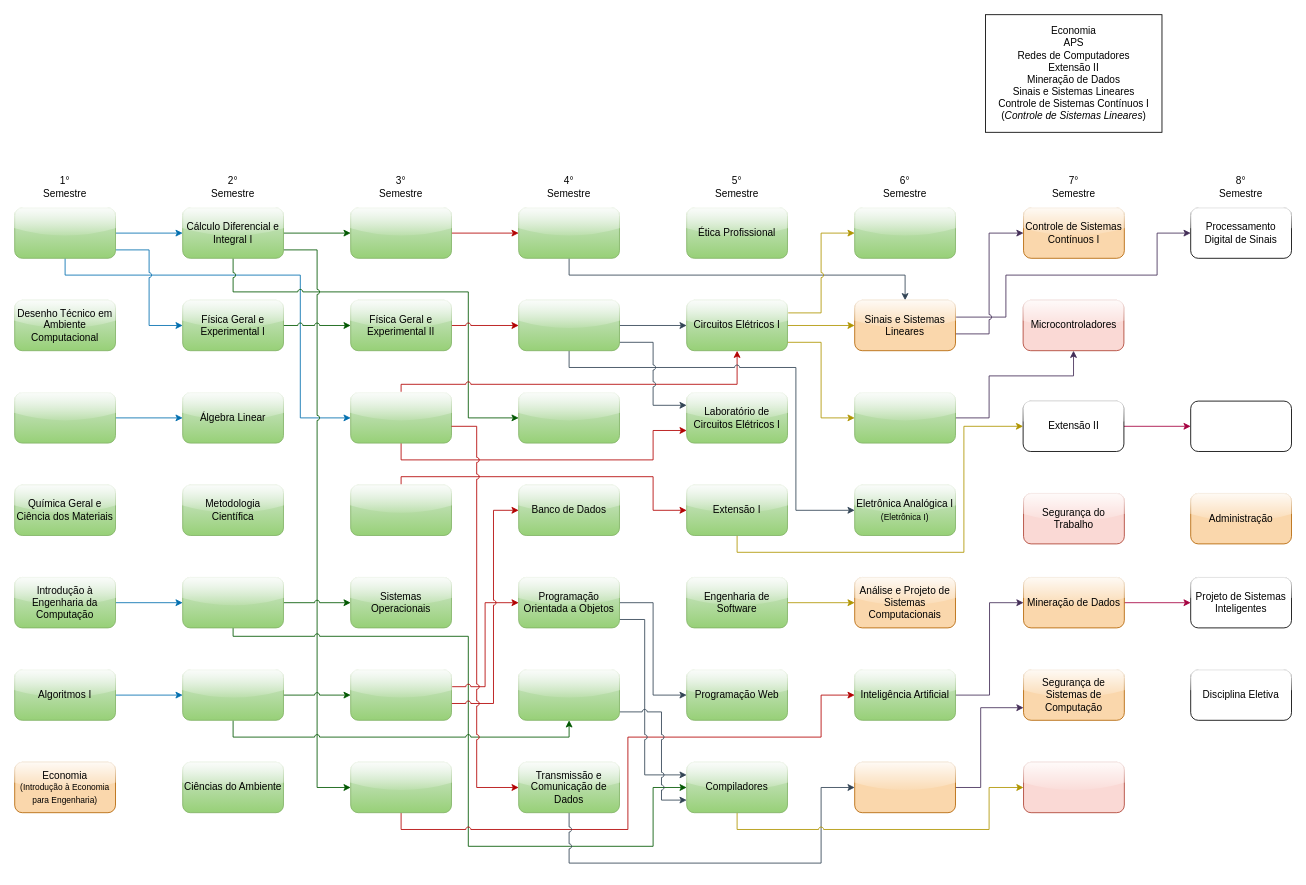
Image size: 1306x885. Some labels were removed from this diagram. The shapes that lost their labels are listed below. From the top down, each one's centre as x and y in pixels, then its label:
(65,232): Fundamentos da Matemática
(401,232): Cálculo Diferencial e Integral II
(569,232): Equações Diferenciais
(905,232): Laboratório de Circuitos Elétricos II
(569,325): Física Geral e Experimental III
(65,417): Cálculo Vetorial e Geometria Analítica
(401,417): Eletrônica Digital
(569,417): Cálculo Numérico
(905,417): Circuitos Elétricos II
(1241,426): Trabalho de Conclusão do Curso
(401,510): Introdução à Extensão
(233,602): Arquitetura e Organização de Computadores
(233,694): Algoritmos II
(401,694): Estrutura de Dados
(569,694): Matemática Discreta e Teoria dos Grafos
(401,787): Probabilidade e Estatística Computacional
(905,787): Redes de Computadores
(1073,787): Eletrônica Analógica II
